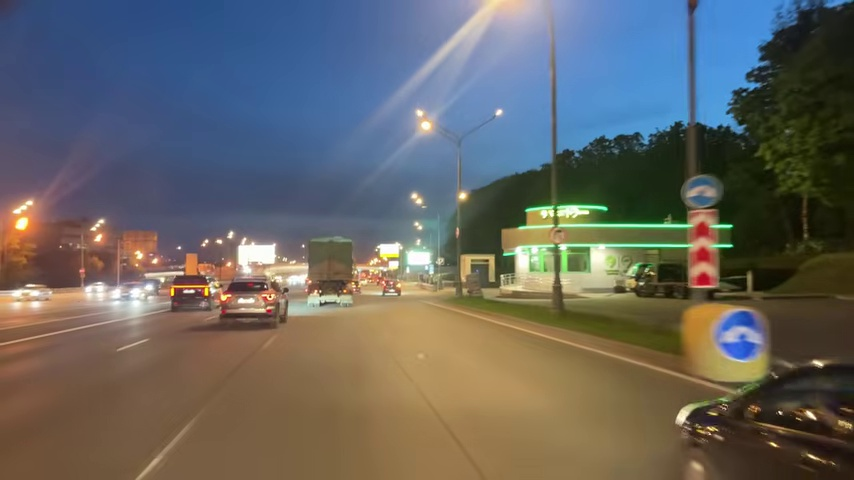acesa: (10, 202, 35, 235), (87, 220, 107, 245), (416, 111, 436, 135), (408, 191, 426, 208), (457, 189, 471, 206)
